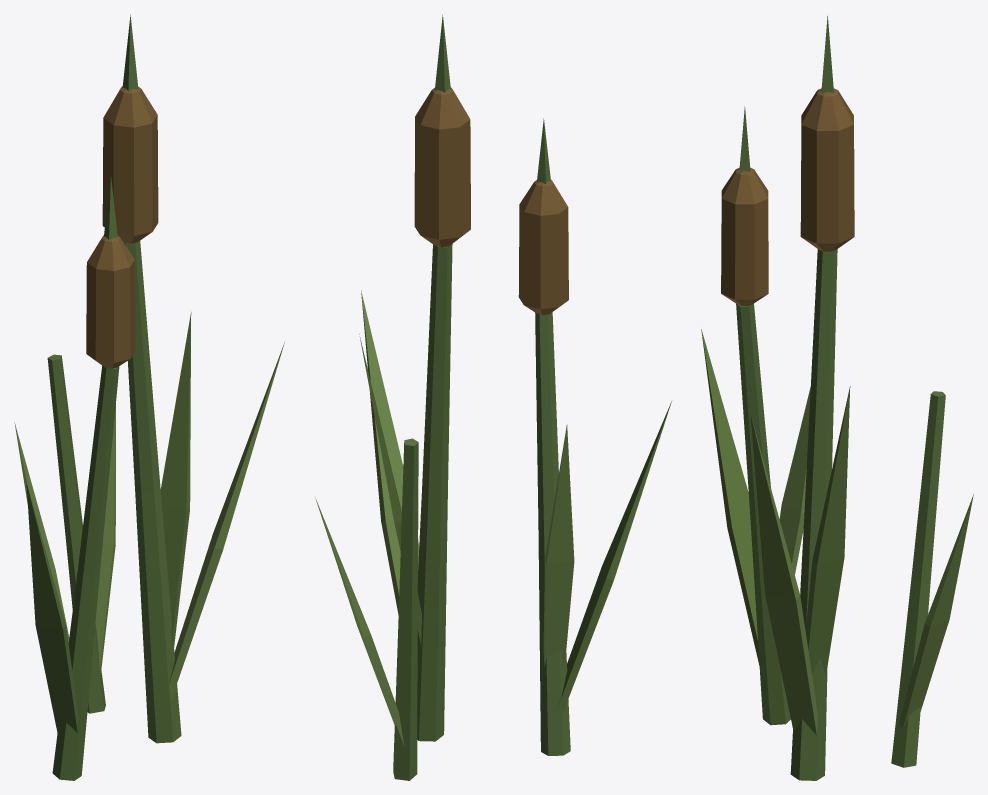
File: swampreed.gltf
3 renders of one model, left to right at view 1: azimuth 30°, elevation 25°; view 2: azimuth 150°, elevation 25°; view 3: azimuth 270°, elevation 25°, orthographic. The views are drawn at different scales.
Visible parts, largest first — view 1: swampreed; view 2: swampreed; view 3: swampreed.
Boxes of the visible parts, x1,y1,x2,y2 form: swampreed: (14,14,284,780); swampreed: (315,14,671,780); swampreed: (701,16,973,780).
Size of the model in its own units: 0.8193 by 2 by 0.66.
